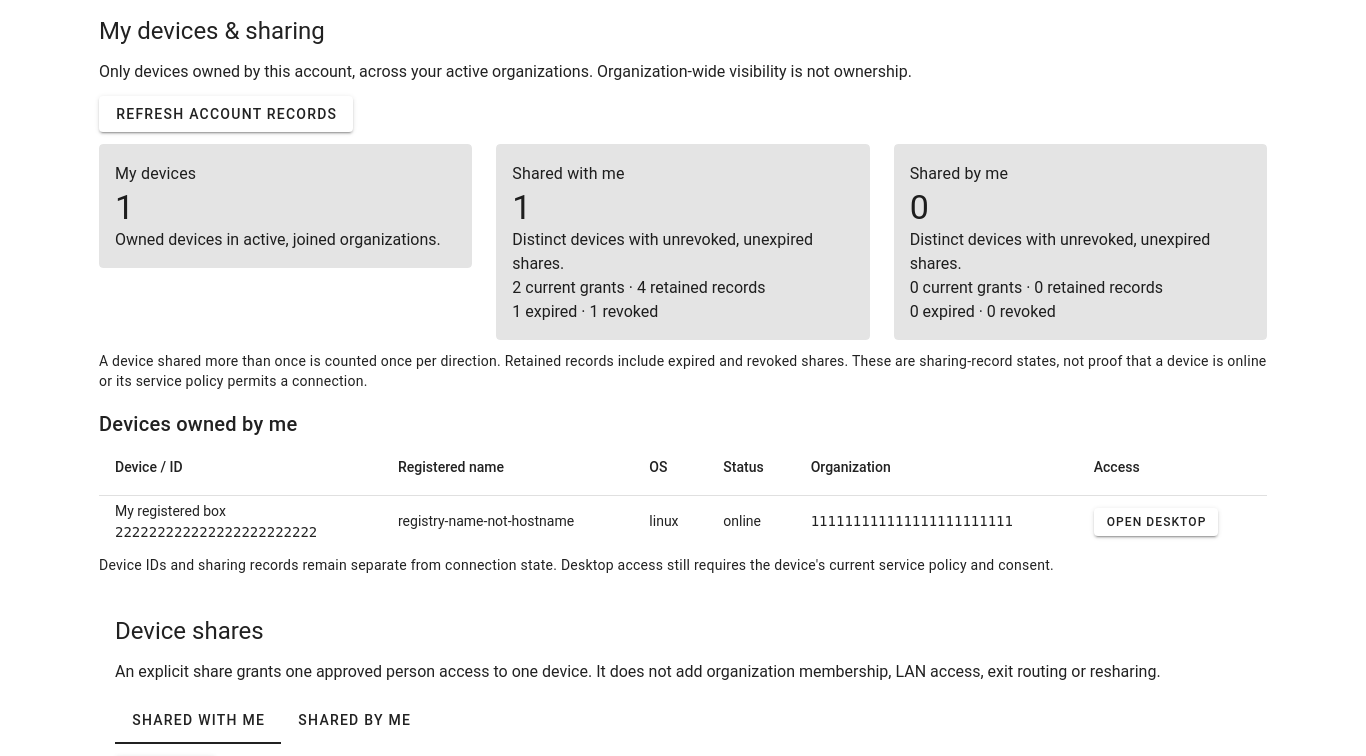
Test: personal devices and authoritative sharing record counts › retains last same-account data with an explicit stale warning when refresh fails
The image size is (1366, 756).
Click the button with test id "personal-refresh" at point(226, 114), box x1=99 y1=96 x2=353 y2=132
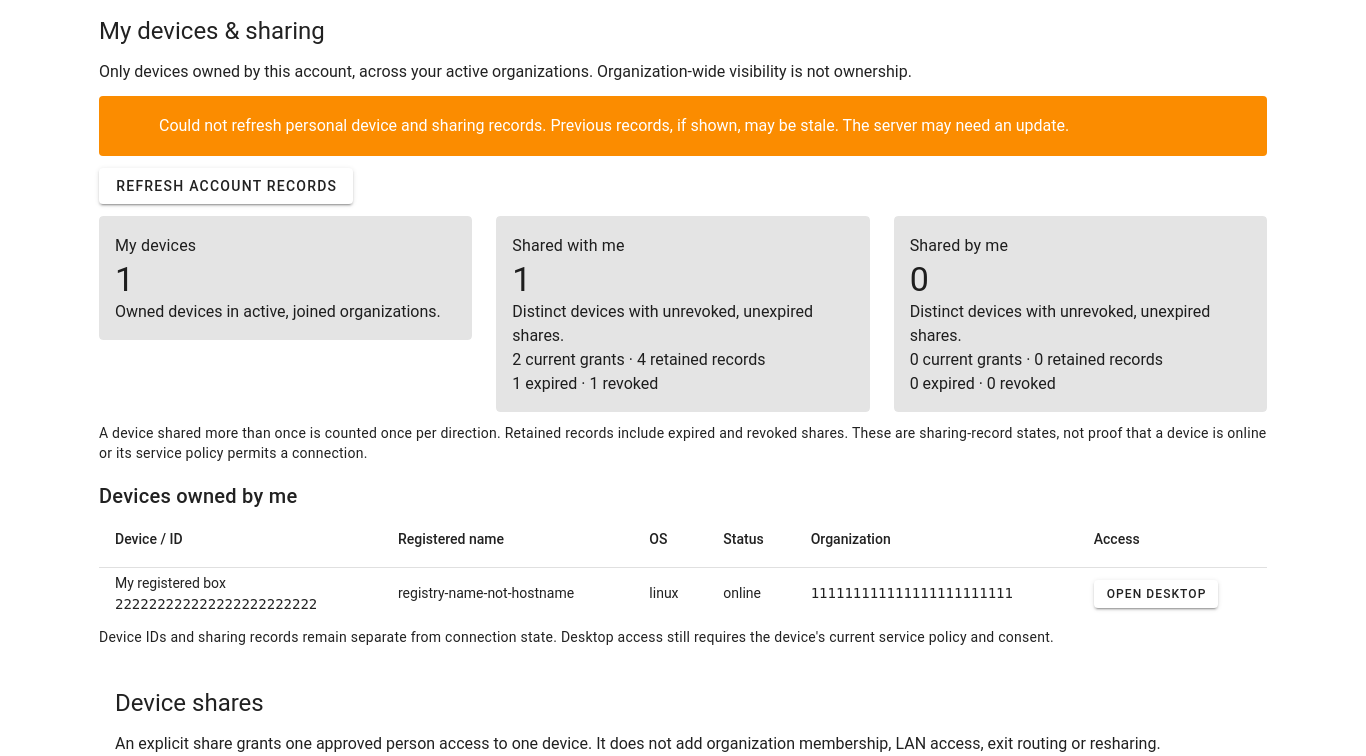
Expected: the text with test id "owned-device-count" reads "1", x1=115 y1=259 x2=134 y2=299
Expected: the message with test id "personal-devices-error" shows "may be stale", x1=159 y1=116 x2=1069 y2=135
